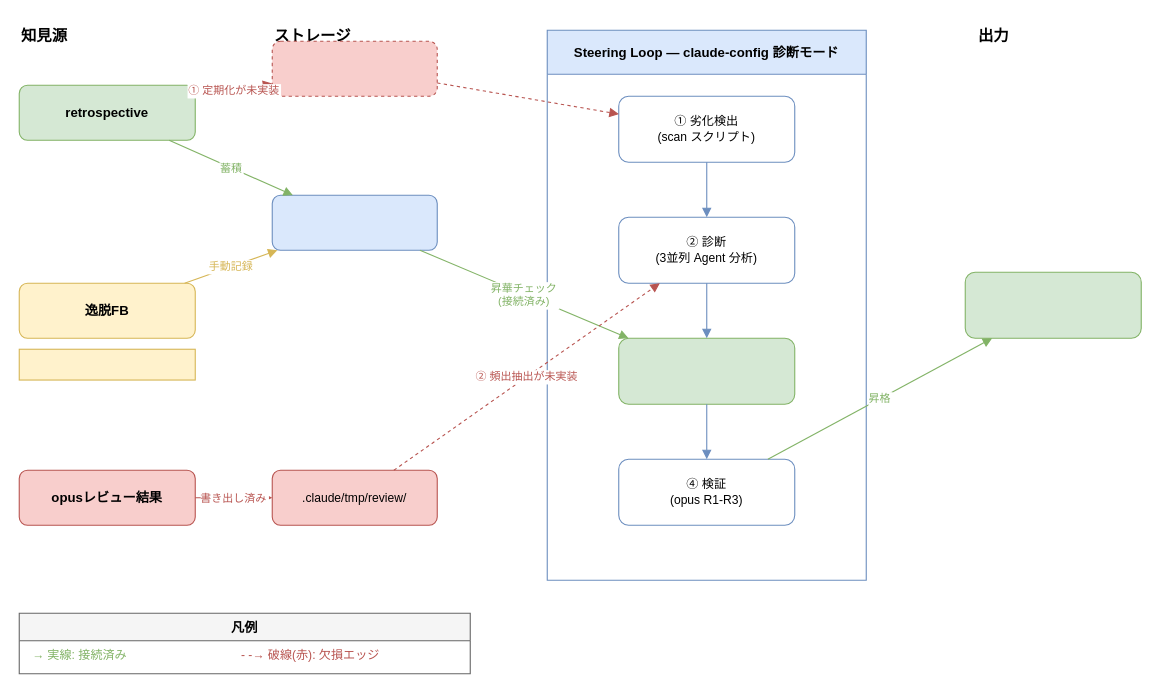
This 1161x693 diagram has some shape labels left out. Each missing label, with the centre of its shape:
"memory" goes at (354,222).
"rule / skill 昇格 （人間レビュー）" goes at (1052,304).
"③ 修正 (Edit + 昇華チェック)" goes at (706,370).
"③ 属人的（自動化案あり）" goes at (106,364).
"定期トリガー (未実装)" goes at (354,68).
